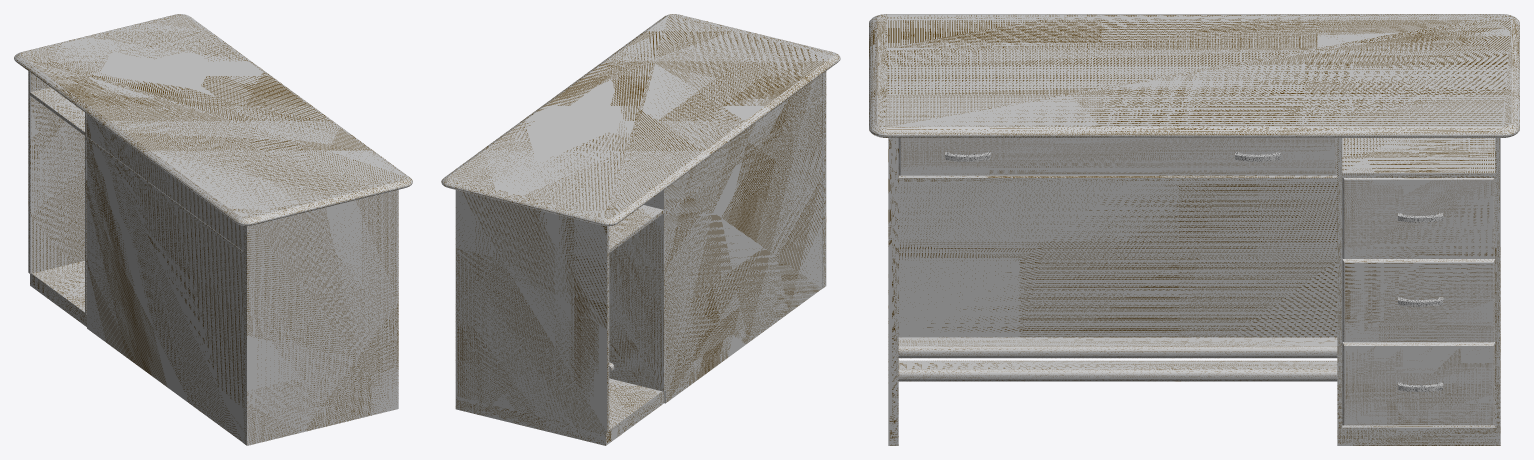
3 views of the same model, side by side, from view 1: azimuth 30°, elevation 25°; view 2: azimuth 150°, elevation 25°; view 3: azimuth 270°, elevation 25° (orthographic). The views are drawn at different scales.
Parts seen in each view (by area): view 1: mesh1.002_mesh1-geometry, mesh7.002_mesh7-geometry, mesh9.002_mesh9-geometry, mesh5.002_mesh5-geometry, mesh6.002_mesh6-geometry, mesh3.002_mesh3-geometry, mesh8.002_mesh8-geometry, mesh4.002_mesh4-geometry; view 2: mesh1.002_mesh1-geometry, mesh9.002_mesh9-geometry, mesh5.002_mesh5-geometry, mesh4.002_mesh4-geometry, mesh6.002_mesh6-geometry, mesh3.002_mesh3-geometry, mesh7.002_mesh7-geometry, mesh8.002_mesh8-geometry; view 3: mesh1.002_mesh1-geometry, mesh9.002_mesh9-geometry, mesh2.002_mesh2-geometry, mesh10.002_mesh10-geometry, mesh12.002_mesh12-geometry, mesh11.002_mesh11-geometry, mesh3.002_mesh3-geometry, mesh8.002_mesh8-geometry, mesh6.002_mesh6-geometry, mesh7.002_mesh7-geometry, mesh5.002_mesh5-geometry, mesh4.002_mesh4-geometry.
Boxes of the visible parts, box(x1,y1,x2,y2) form: mesh1.002_mesh1-geometry: box(14, 14, 412, 225); mesh7.002_mesh7-geometry: box(243, 190, 398, 445); mesh9.002_mesh9-geometry: box(87, 114, 243, 442); mesh5.002_mesh5-geometry: box(28, 71, 84, 273); mesh6.002_mesh6-geometry: box(30, 260, 86, 326); mesh3.002_mesh3-geometry: box(30, 87, 84, 135); mesh8.002_mesh8-geometry: box(86, 137, 243, 254); mesh4.002_mesh4-geometry: box(85, 113, 86, 315); mesh1.002_mesh1-geometry: box(441, 14, 840, 226); mesh9.002_mesh9-geometry: box(664, 74, 822, 403); mesh5.002_mesh5-geometry: box(455, 190, 609, 432); mesh4.002_mesh4-geometry: box(609, 189, 665, 391); mesh6.002_mesh6-geometry: box(455, 378, 664, 445); mesh3.002_mesh3-geometry: box(609, 205, 663, 252); mesh7.002_mesh7-geometry: box(822, 71, 826, 288); mesh8.002_mesh8-geometry: box(665, 97, 822, 214); mesh1.002_mesh1-geometry: box(869, 14, 1519, 137); mesh9.002_mesh9-geometry: box(898, 182, 1337, 337); mesh2.002_mesh2-geometry: box(1342, 178, 1495, 425); mesh10.002_mesh10-geometry: box(898, 138, 1337, 175); mesh12.002_mesh12-geometry: box(898, 360, 1337, 381); mesh11.002_mesh11-geometry: box(898, 337, 1337, 358); mesh3.002_mesh3-geometry: box(1342, 138, 1495, 177); mesh8.002_mesh8-geometry: box(898, 175, 1337, 182); mesh6.002_mesh6-geometry: box(1337, 425, 1500, 445); mesh7.002_mesh7-geometry: box(888, 138, 898, 445); mesh5.002_mesh5-geometry: box(1495, 138, 1500, 427); mesh4.002_mesh4-geometry: box(1337, 138, 1342, 427).
Size of the model in its own units: 0.3569 by 0.4493 by 0.819.
